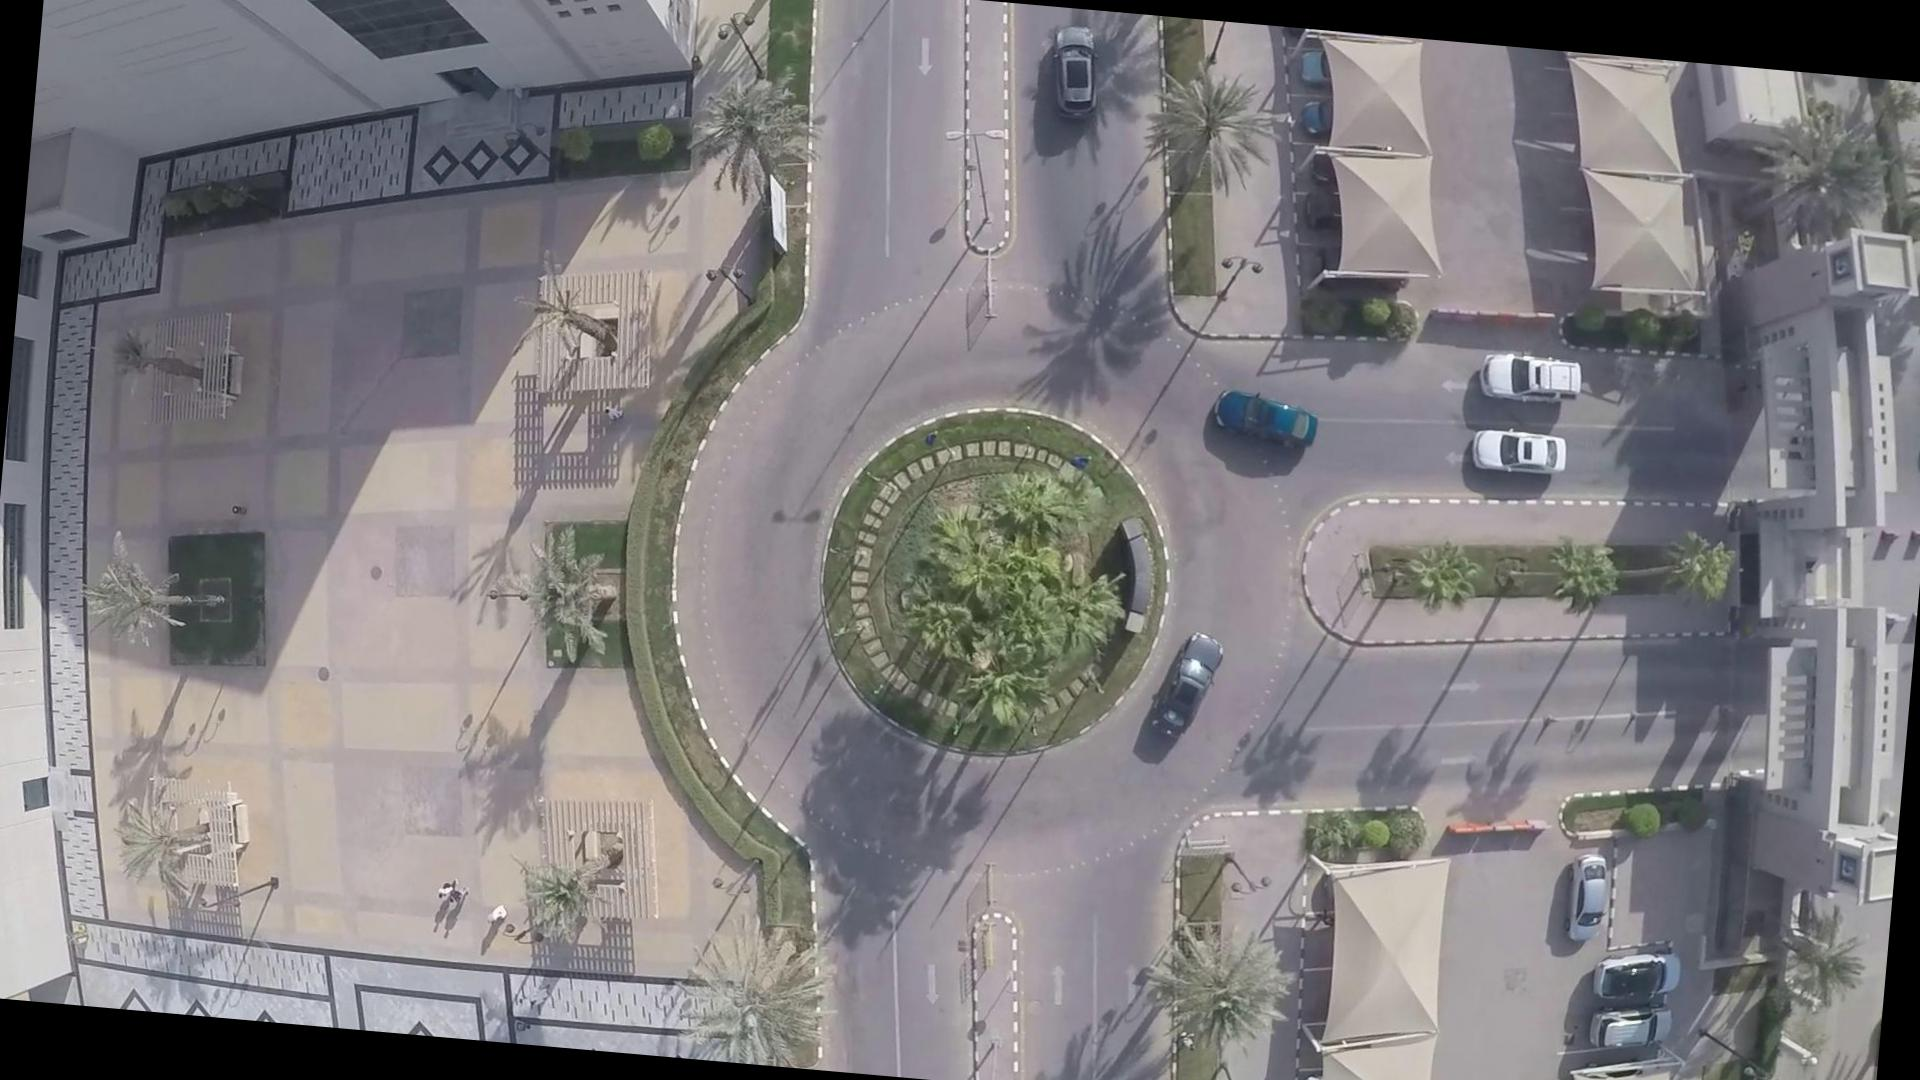vehicle: (1210, 370, 1324, 466), (1465, 340, 1606, 416), (1147, 625, 1224, 752), (1030, 14, 1108, 130), (1455, 417, 1576, 482)
